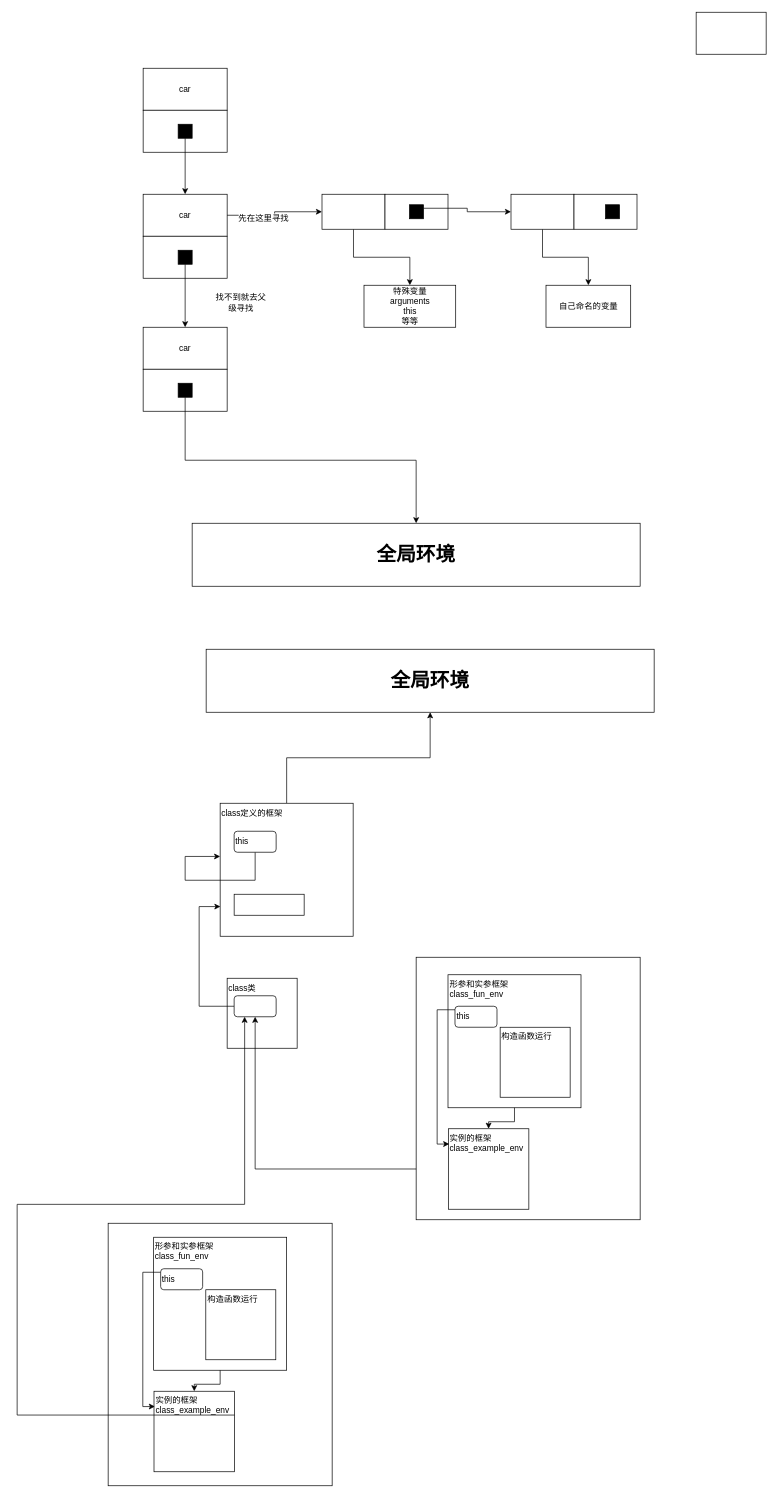
Image size: 778x1498. Some labels were removed from this diagram. Here are the shapes that lost their labels. From the top down, the centre of each, then its label:
point (730, 33): 外部环境地址
point (268, 904): 各种类的方法
point (254, 1006): define-env
